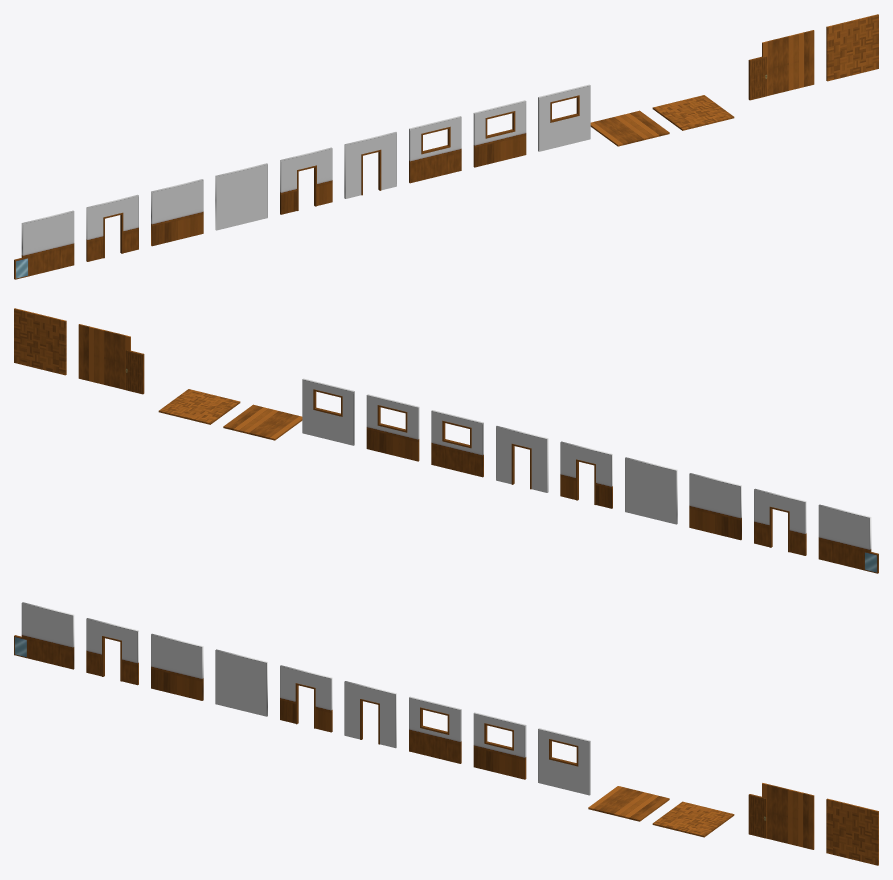
File: walls_window_door_optimised.glb
3 renders of one model, top to bottom at view 1: azimuth 30°, elevation 25°; view 2: azimuth 150°, elevation 25°; view 3: azimuth 330°, elevation 25°, orthographic.
Visible parts, largest first — view 1: wall3t_4, wall2t_3, Plane.002_14, wall1t_1, Material.005_13, wall2t_8, wall3t_9, wall1t_7, wall3t_6, wall1t_2, wall2t_5, Plane.002_11 (+2 smaller); view 2: wall3t_4, wall2t_3, Plane.002_14, wall1t_1, Material.005_13, wall2t_8, wall3t_9, wall1t_7, wall3t_6, wall1t_2, wall2t_5, Plane.002_11 (+2 smaller); view 3: wall3t_4, wall2t_3, Plane.002_14, wall1t_1, Material.005_13, wall2t_8, wall3t_9, wall1t_7, wall3t_6, wall1t_2, wall2t_5, Plane.002_11 (+2 smaller).
Boxes of the visible parts, box(x1,y1,x2,y2) form: wall3t_4: box(215, 163, 267, 230); wall2t_3: box(151, 179, 203, 246); Plane.002_14: box(826, 14, 878, 81); wall1t_1: box(21, 210, 74, 276); Material.005_13: box(762, 30, 814, 95); wall2t_8: box(473, 100, 526, 167); wall3t_9: box(538, 84, 590, 151); wall1t_7: box(409, 116, 461, 183); wall3t_6: box(344, 132, 396, 198); wall1t_2: box(86, 194, 138, 261); wall2t_5: box(280, 147, 332, 214); Plane.002_11: box(652, 95, 734, 130); wall3t_4: box(625, 457, 677, 524); wall2t_3: box(689, 473, 741, 540); Plane.002_14: box(14, 308, 66, 375); wall1t_1: box(818, 504, 871, 570); Material.005_13: box(78, 324, 130, 389); wall2t_8: box(366, 394, 419, 461); wall3t_9: box(302, 378, 354, 445); wall1t_7: box(431, 410, 483, 477); wall3t_6: box(496, 426, 548, 492); wall1t_2: box(754, 488, 806, 555); wall2t_5: box(560, 441, 612, 508); Plane.002_11: box(158, 389, 240, 424); wall3t_4: box(215, 649, 267, 716); wall2t_3: box(151, 633, 203, 700); Plane.002_14: box(826, 798, 878, 865); wall1t_1: box(21, 602, 74, 669); Material.005_13: box(762, 783, 814, 849); wall2t_8: box(473, 712, 526, 779); wall3t_9: box(538, 728, 590, 795); wall1t_7: box(409, 696, 461, 763); wall3t_6: box(344, 681, 396, 748); wall1t_2: box(86, 618, 138, 685); wall2t_5: box(280, 665, 332, 732); Plane.002_11: box(652, 801, 734, 837).
Size of the model in its own units: 33.47 by 2 by 2.
Materials: 7 (7 with a texture image).
